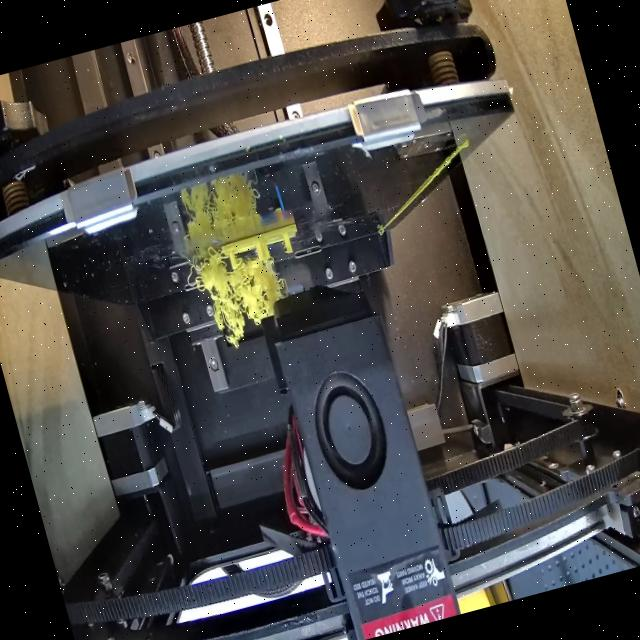spaghetti: (188, 240, 289, 342)
